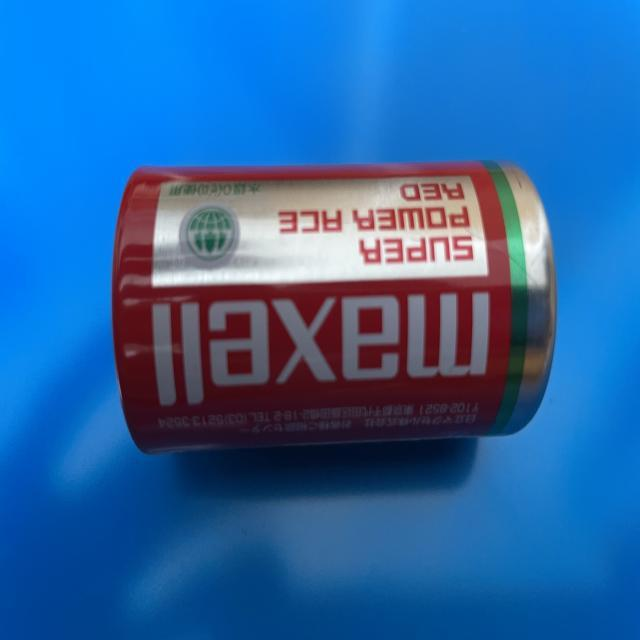hazardous waste: (110, 158, 560, 460)
